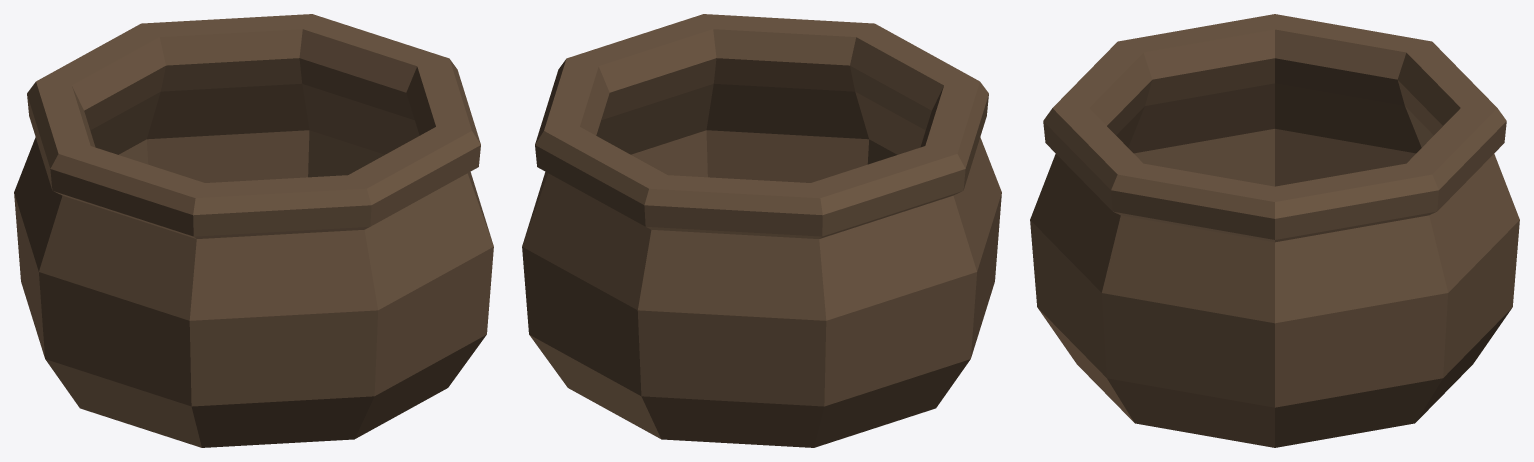
File: Tribal_Plains_Basket_Woven_02.fbx
The picture shows the model from 3 angles, left to right: view 1: azimuth 30°, elevation 25°; view 2: azimuth 150°, elevation 25°; view 3: azimuth 270°, elevation 25°; orthographic projection.
Visible parts, largest first — view 1: Tribal_Plains_Basket_Woven_02; view 2: Tribal_Plains_Basket_Woven_02; view 3: Tribal_Plains_Basket_Woven_02.
Boxes of the visible parts, x1=… form: Tribal_Plains_Basket_Woven_02: x1=14, y1=14, x2=493, y2=447; Tribal_Plains_Basket_Woven_02: x1=522, y1=14, x2=1001, y2=447; Tribal_Plains_Basket_Woven_02: x1=1030, y1=14, x2=1519, y2=447.
Size of the model in its own units: 1.05 by 0.6064 by 1.05.
